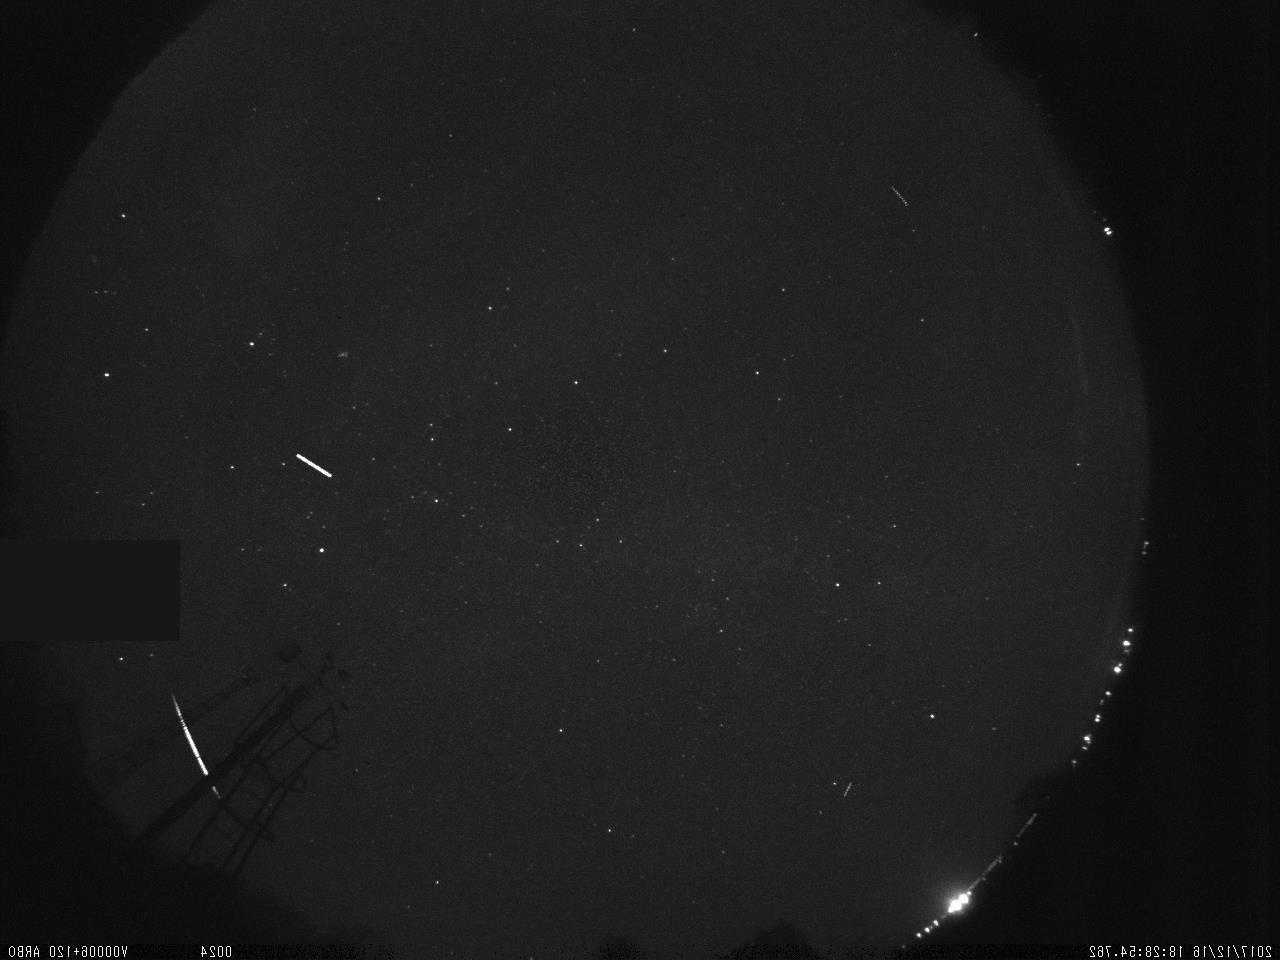meteor: (161, 688, 225, 805)
satelite: (290, 449, 340, 484), (887, 178, 914, 212)
